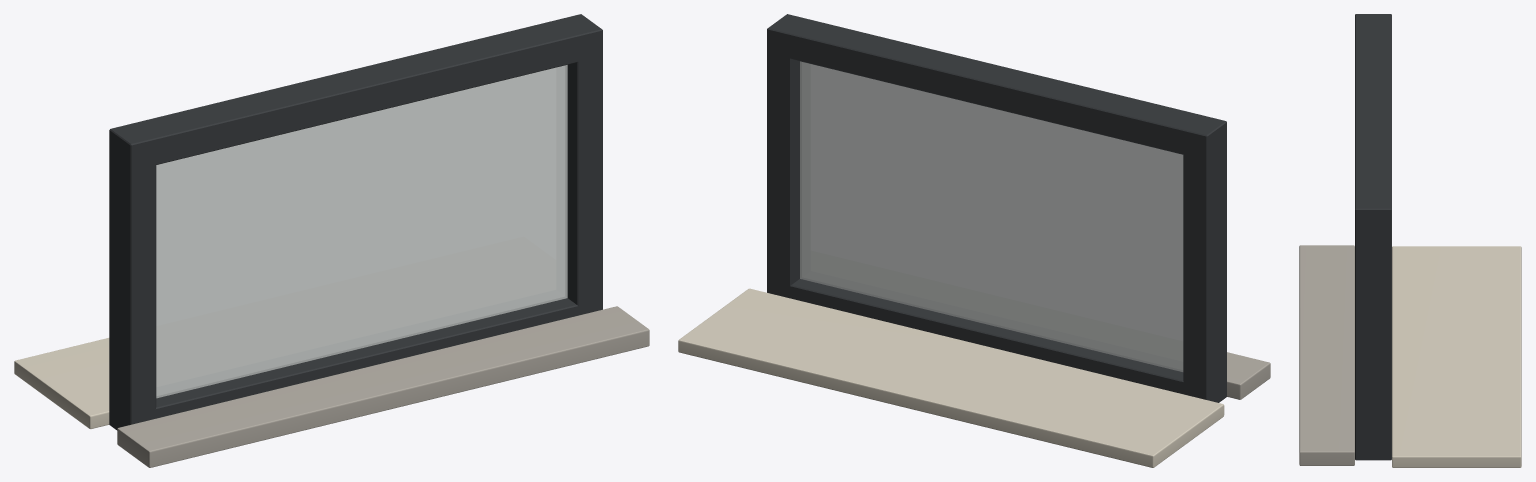
File: prop_window_w100_h60_frosted.glb
3 views of the same model, side by side, from view 1: azimuth 30°, elevation 25°; view 2: azimuth 150°, elevation 25°; view 3: azimuth 270°, elevation 25° (orthographic). The views are drawn at different scales.
Parts seen in each view (by area): view 1: Glass, Frame; view 2: Frame, Glass; view 3: Frame.
Part boxes in pixels (x1,y1,x2,y2): Glass: (156, 65, 567, 398); Frame: (14, 14, 649, 467); Frame: (678, 14, 1270, 467); Glass: (800, 61, 1183, 371); Frame: (1299, 14, 1521, 467).
Size of the model in its own units: 1.08 by 0.6 by 0.48.
